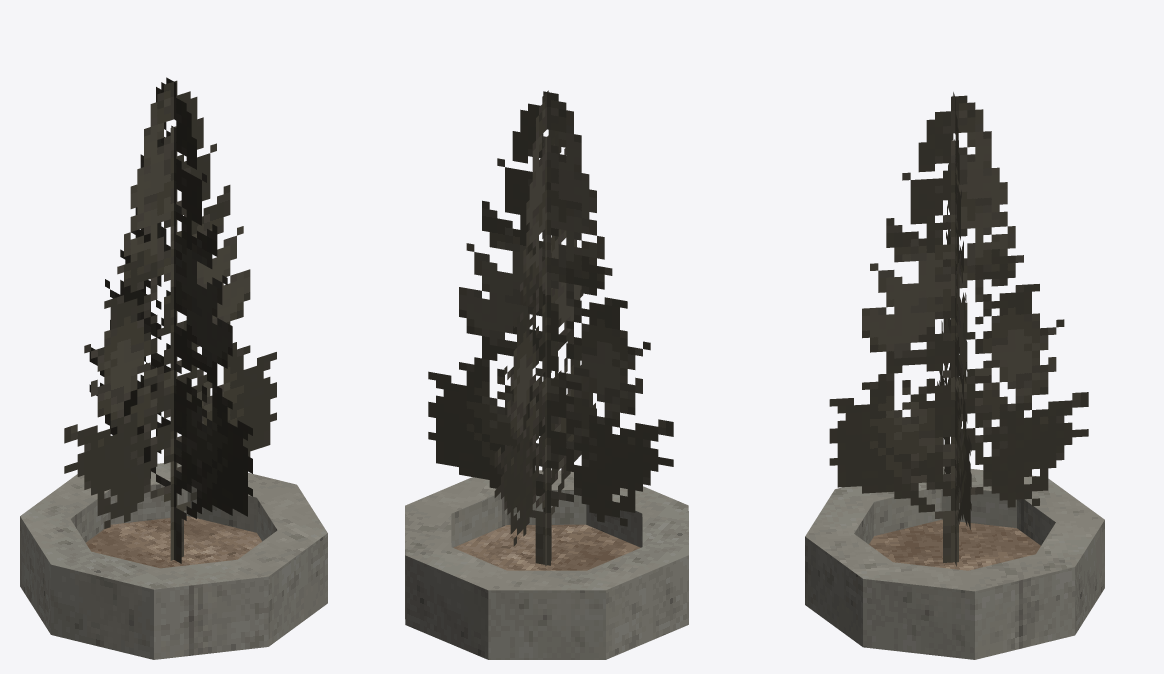
File: procgen-procpain-tree-park-pine-large-xm3z1.obj
The picture shows the model from 3 angles, left to right: view 1: azimuth 30°, elevation 25°; view 2: azimuth 150°, elevation 25°; view 3: azimuth 270°, elevation 25°; orthographic projection. The views are drawn at different scales.
Size of the model in its own units: 6.96 by 9.85 by 6.96.
